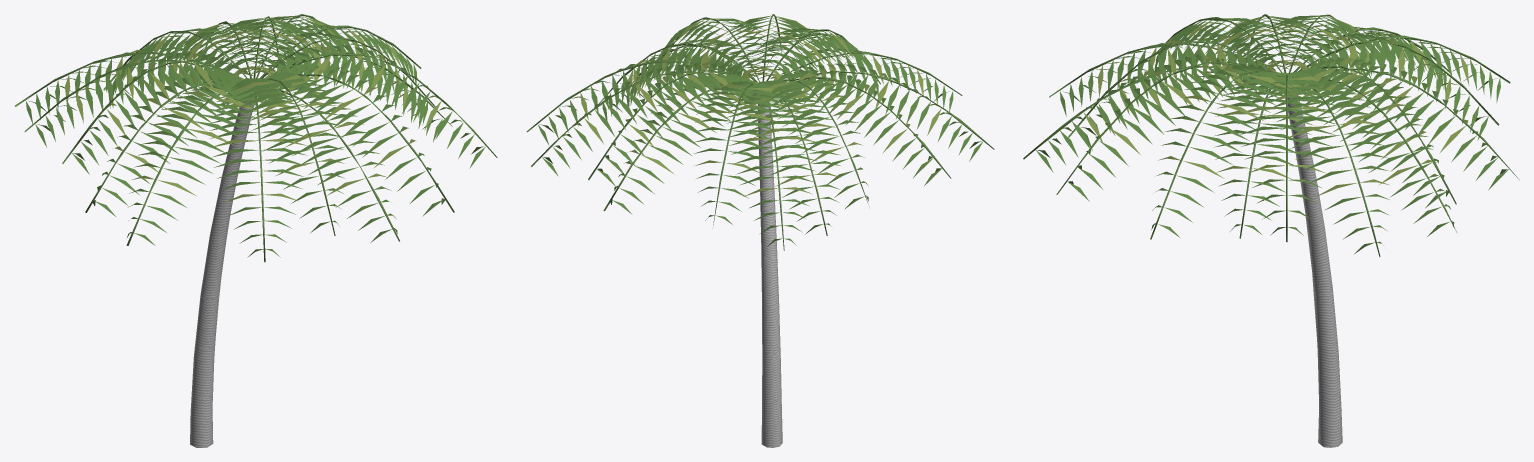
File: palm_lod1.glb
3 renders of one model, left to right at view 1: azimuth 30°, elevation 25°; view 2: azimuth 150°, elevation 25°; view 3: azimuth 270°, elevation 25°, orthographic. The views are drawn at different scales.
Visible parts, largest first — view 1: palm_body.001; view 2: palm_body.001; view 3: palm_body.001.
Boxes of the visible parts, x1,y1,x2,y2 form: palm_body.001: (15,14,497,447); palm_body.001: (526,14,994,447); palm_body.001: (1023,14,1519,447).
Size of the model in its own units: 8.49 by 8.04 by 8.74.
Materials: 3 (1 with a texture image).
